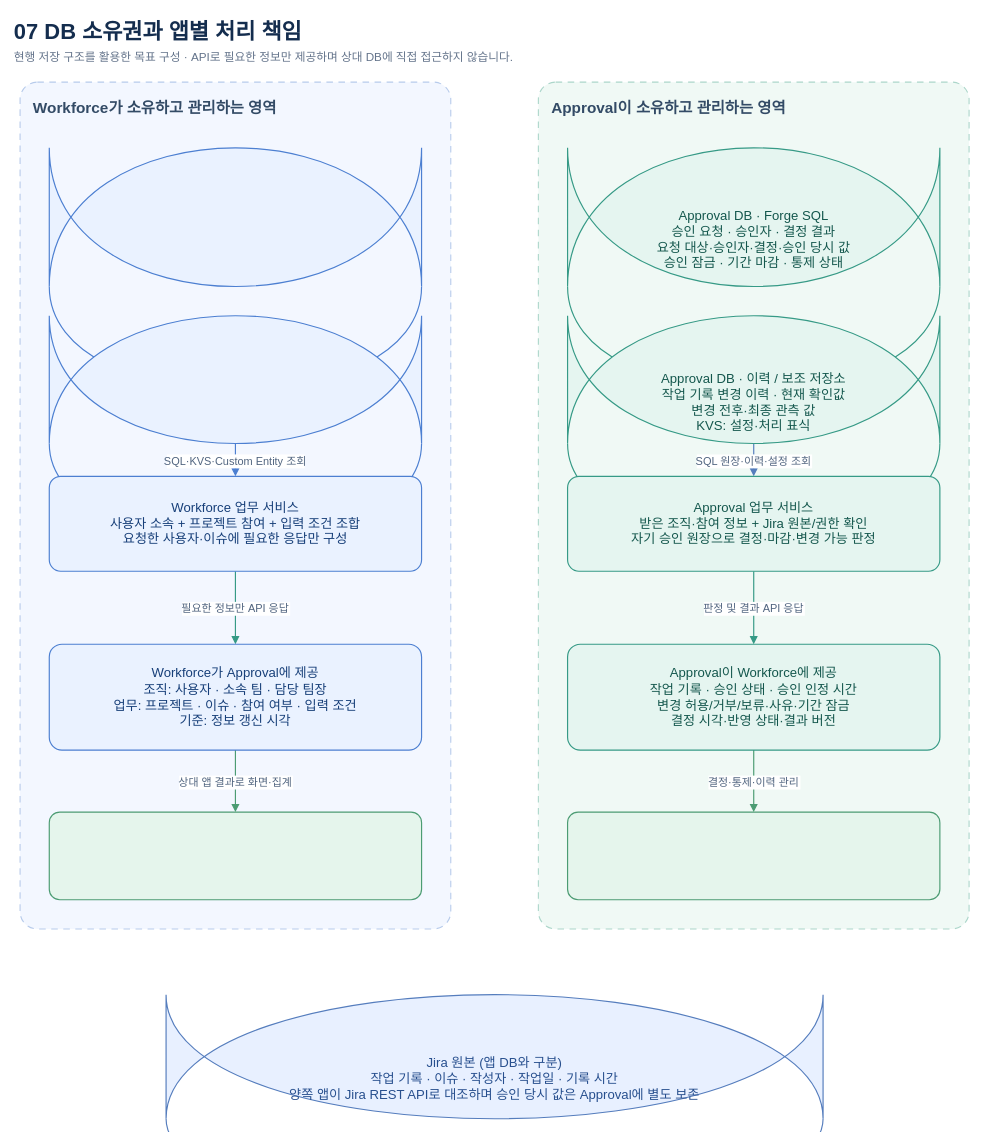
Some shapes in this 988 by 1132 pixel diagram are drawn without their labels. The shapes that lost their labels are listed below. From the top down, each one's centre as x and y in pixels, then its label:
(235,217): Workforce DB · Forge SQL 사용자 정보 · 소속 팀 프로젝트 · 참여 사용자 · 배정 팀 프로젝트·참여자·팀 배정
(235,379): Workforce Forge Custom Entity / KVS 팀 정보 · 조직 구조 · 팀장 업무 설정·코드 등
(235,855): Workforce의 최종 역할 입력 화면·조직/계획 관리·승인 결과 표시 진행 시간 / 승인 인정 시간 집계·보고
(753,855): Approval의 최종 역할 승인 접수·팀장 자격 확인·단건/일괄 결정 수정·삭제 통제·마감·승인 증거 보존
